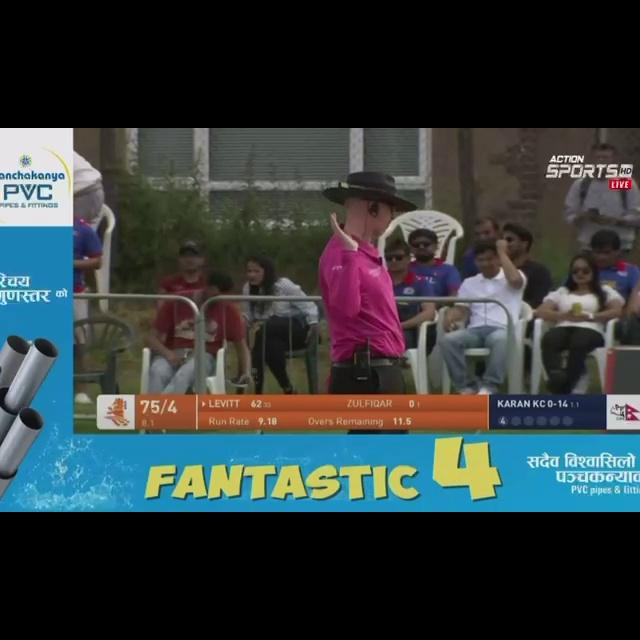umpire: (266, 160, 457, 379)
